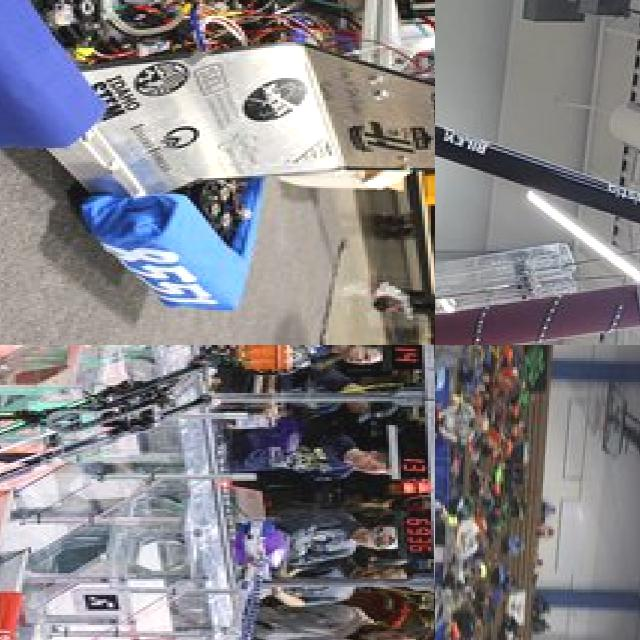FRC-Robots: (0, 0, 435, 320), (435, 0, 640, 345), (0, 345, 228, 574), (0, 538, 279, 640)
